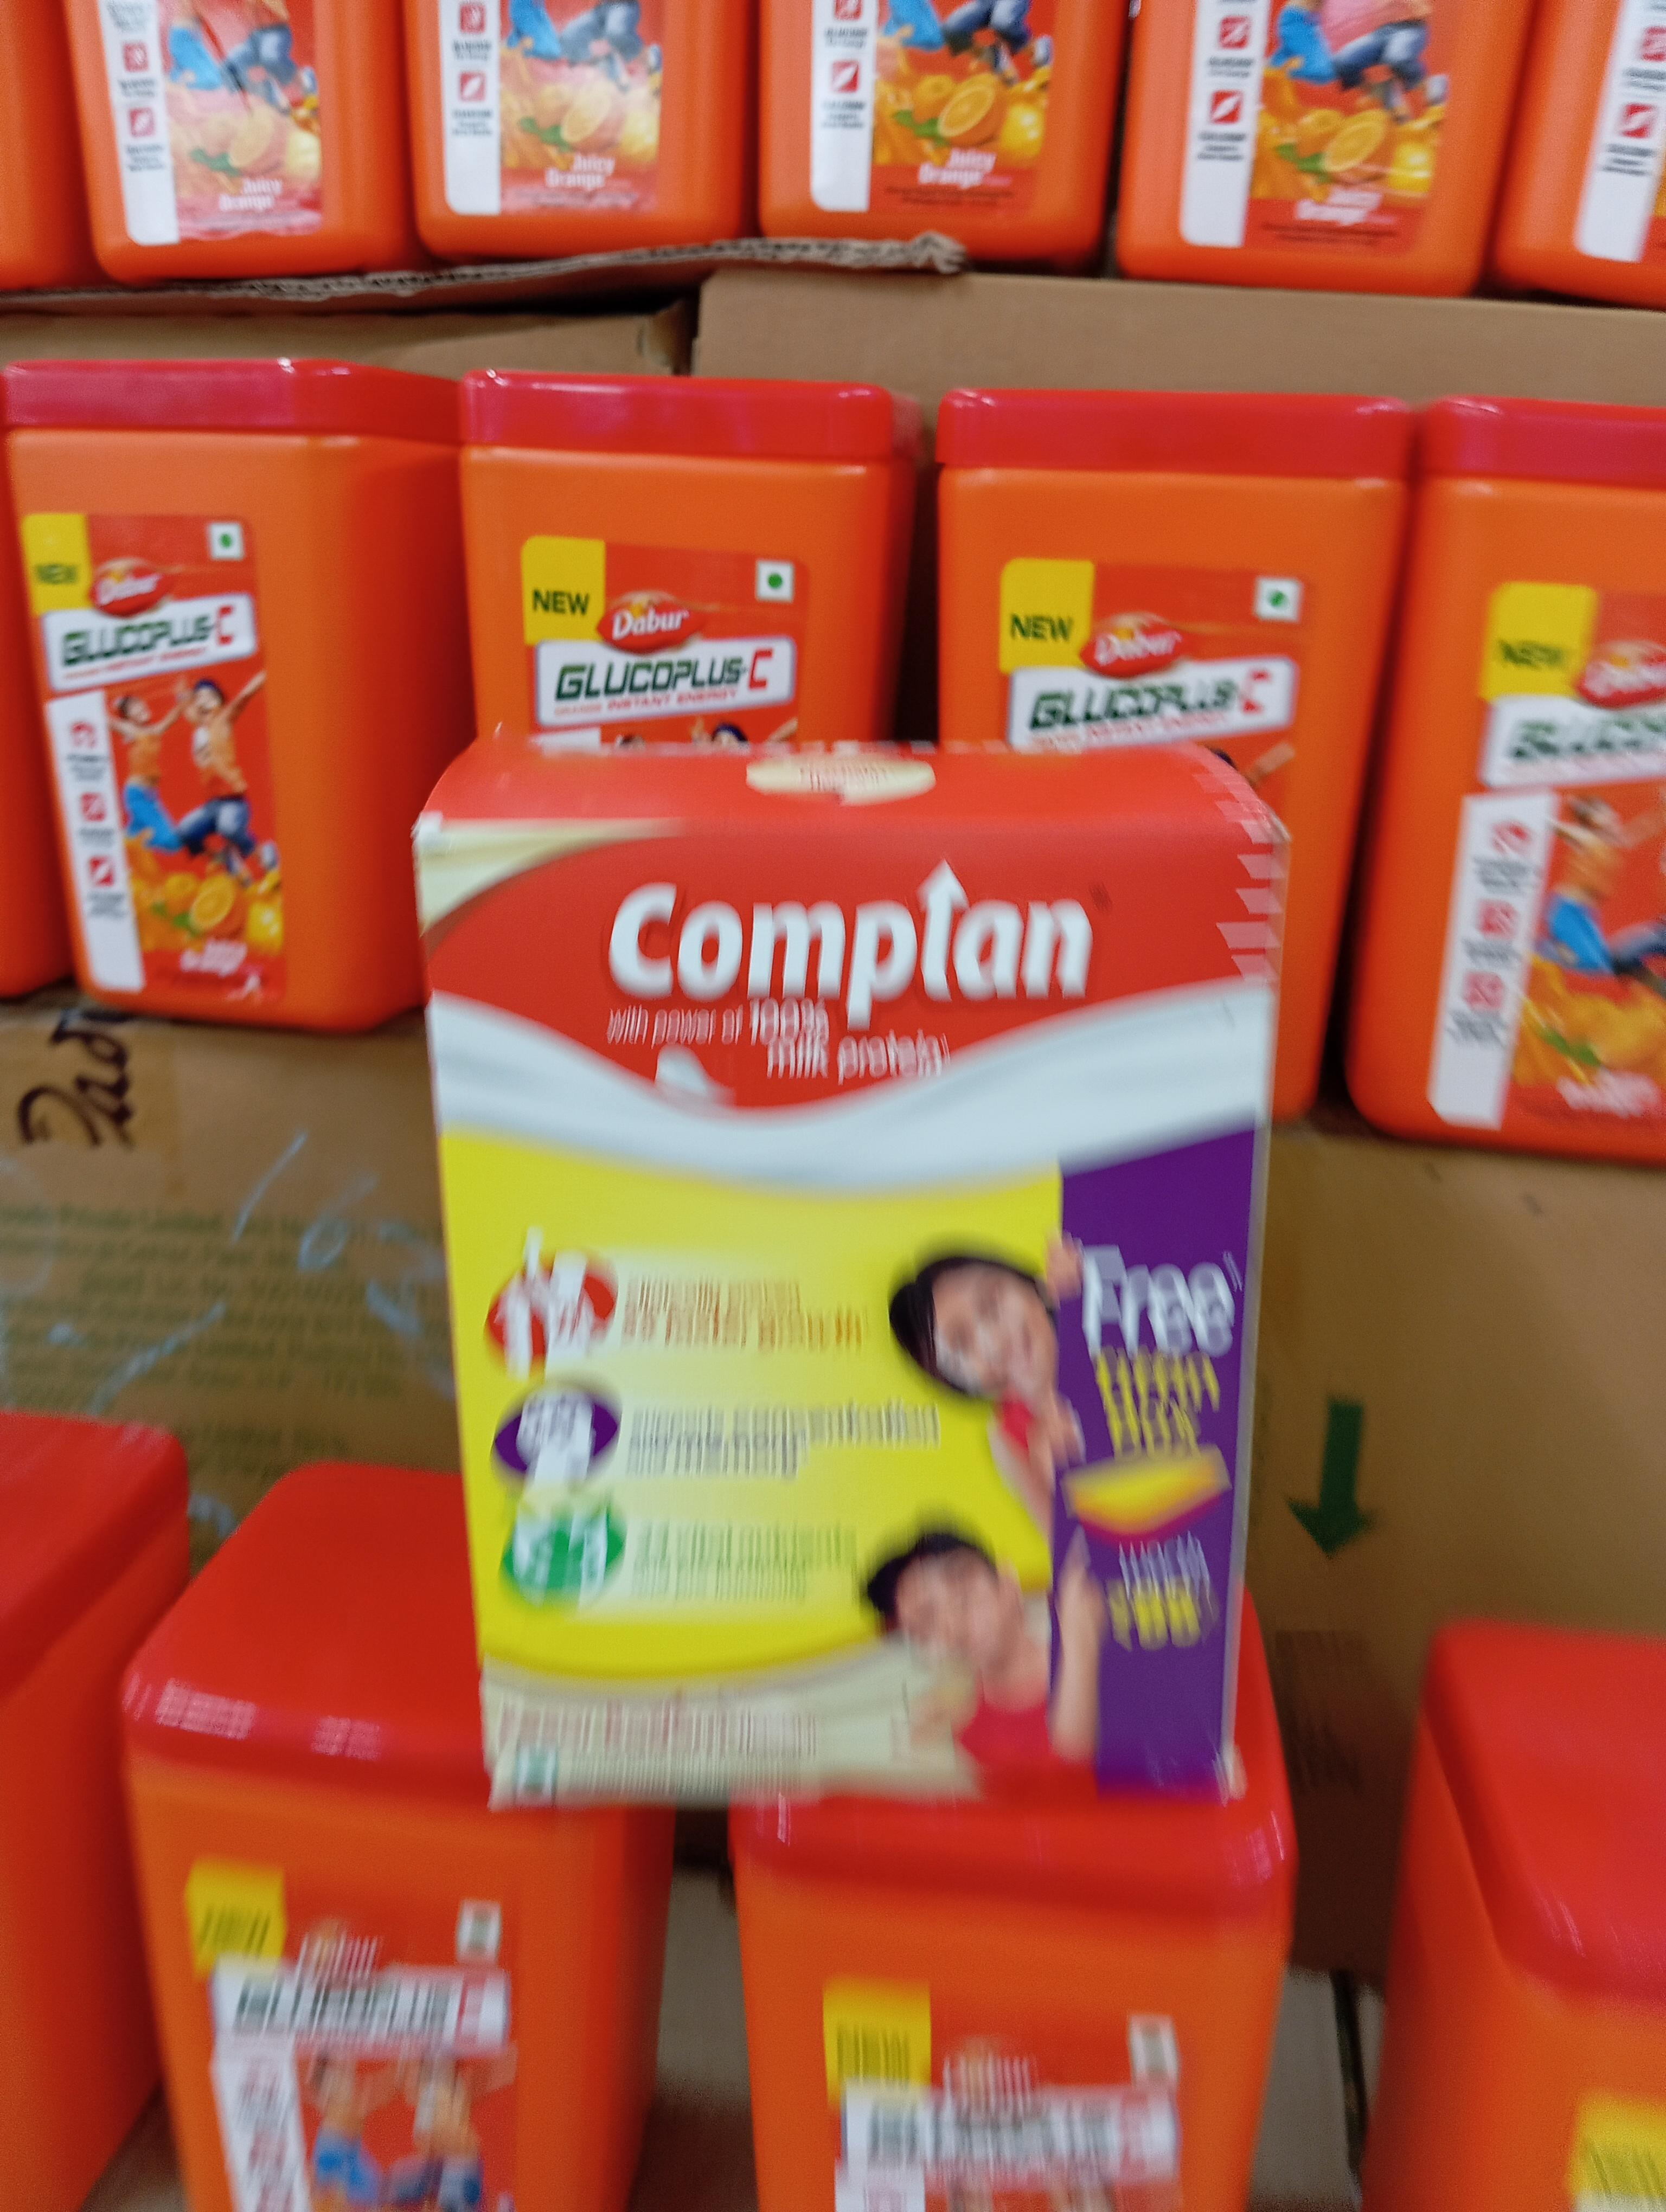COMPLAN_KESAR_BADAM_500_GMS_PACK: (431, 834, 1237, 1824)
